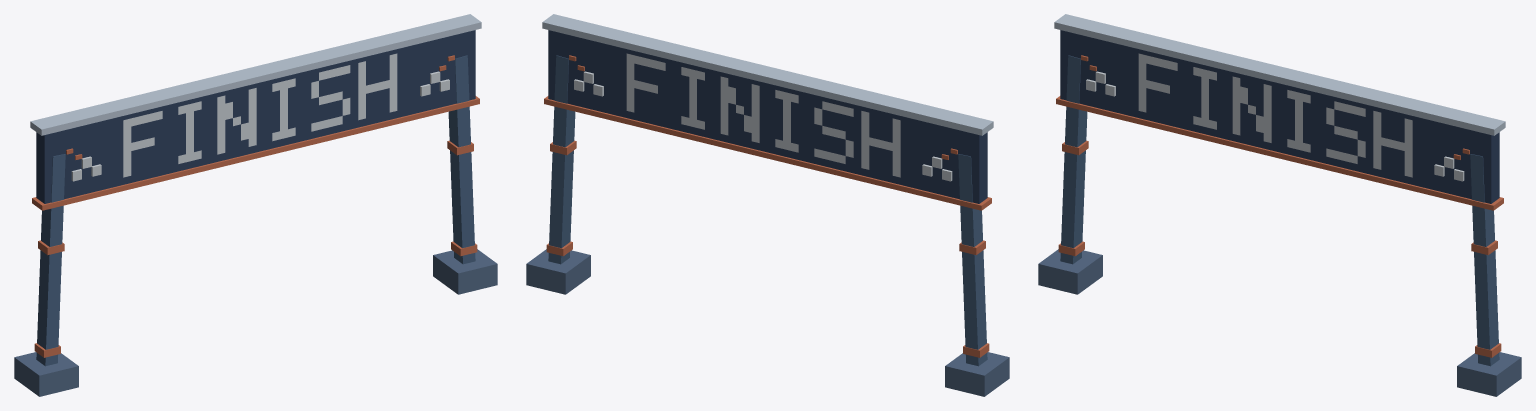
File: finish.glb
3 renders of one model, left to right at view 1: azimuth 30°, elevation 25°; view 2: azimuth 150°, elevation 25°; view 3: azimuth 330°, elevation 25°, orthographic.
Visible parts, largest first — view 1: finish; view 2: finish; view 3: finish.
Part boxes in pixels (x1=…): finish: x1=14, y1=14, x2=497, y2=396; finish: x1=526, y1=14, x2=1009, y2=396; finish: x1=1038, y1=14, x2=1521, y2=396.
Size of the model in its own units: 9.89 by 5.36 by 0.94.
